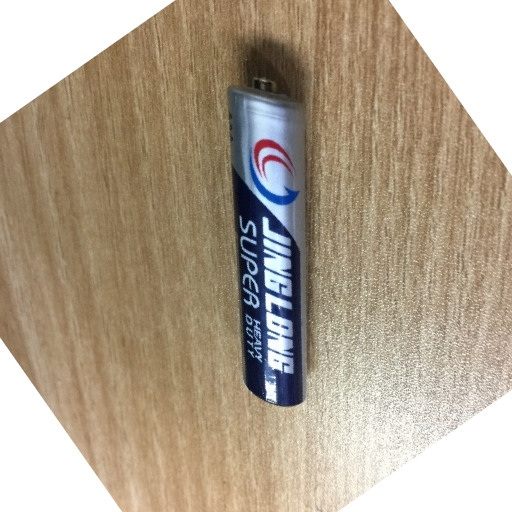Battery_0: (213, 51, 329, 419)
